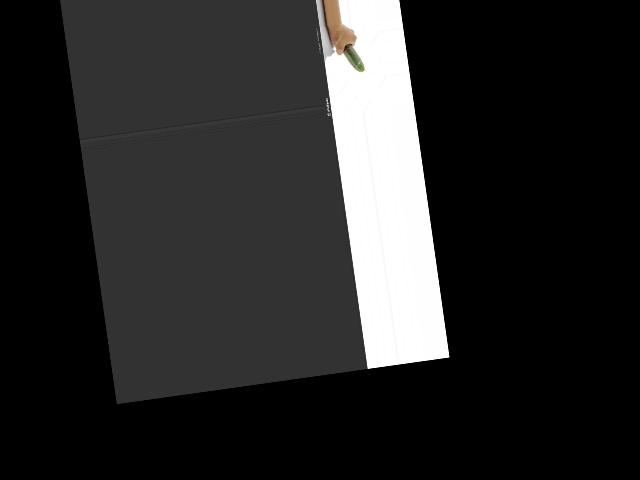cucumber: (342, 42, 364, 73)
